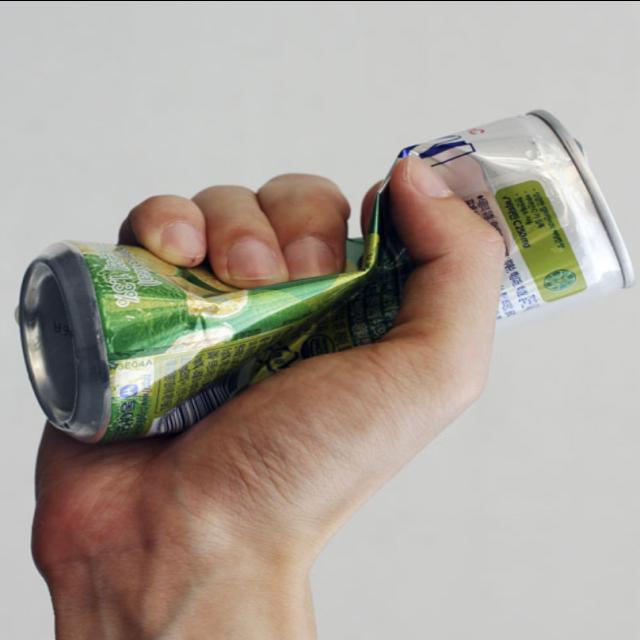can: (14, 95, 628, 466)
